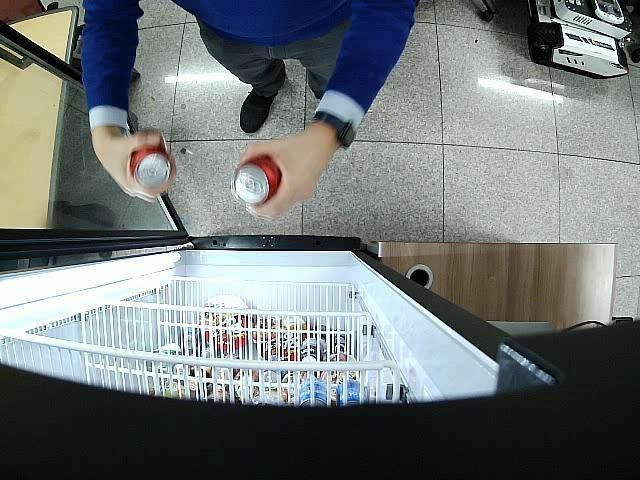11_cocaColaZero: (230, 156, 282, 206), (131, 132, 171, 189)
